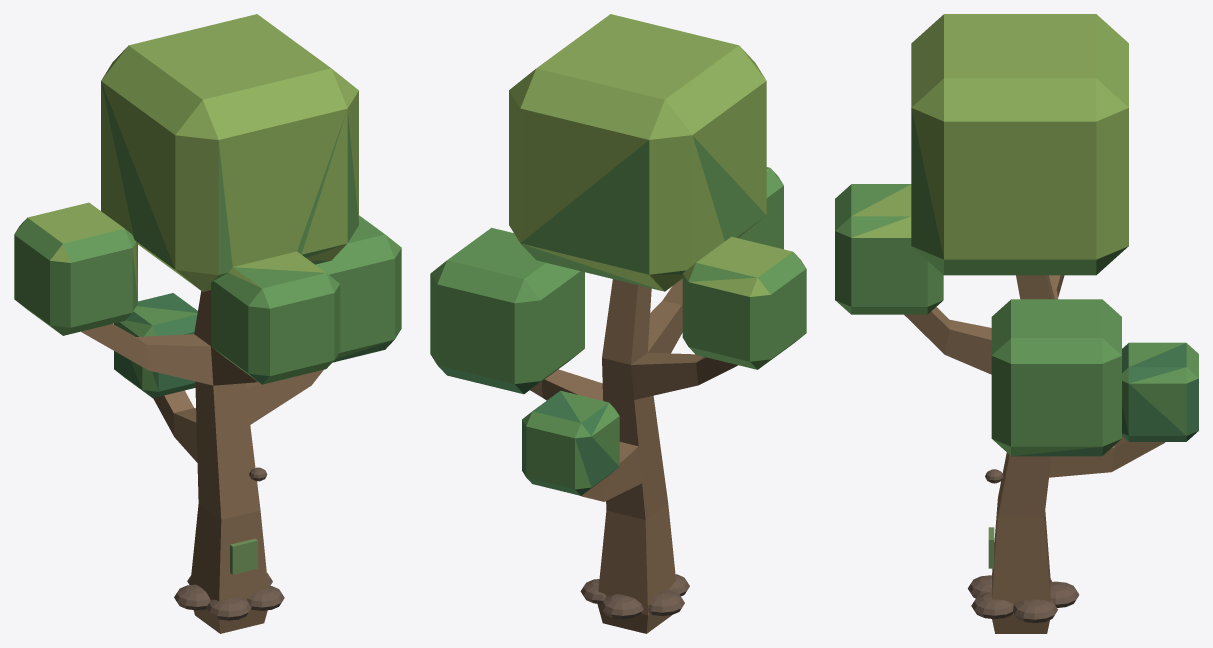
Rendered from tree_detailed.glb.
3 renders of one model, left to right at view 1: azimuth 30°, elevation 25°; view 2: azimuth 150°, elevation 25°; view 3: azimuth 270°, elevation 25°, orthographic. The views are drawn at different scales.
Parts seen in each view (by area): view 1: tree_detailed; view 2: tree_detailed; view 3: tree_detailed.
Part boxes in pixels (x1,y1,x2,y2): tree_detailed: [14, 14, 401, 633]; tree_detailed: [430, 14, 806, 633]; tree_detailed: [835, 14, 1198, 633].
Bounding box in the file's own units: 0.8471 × 1.33 × 0.7616.
